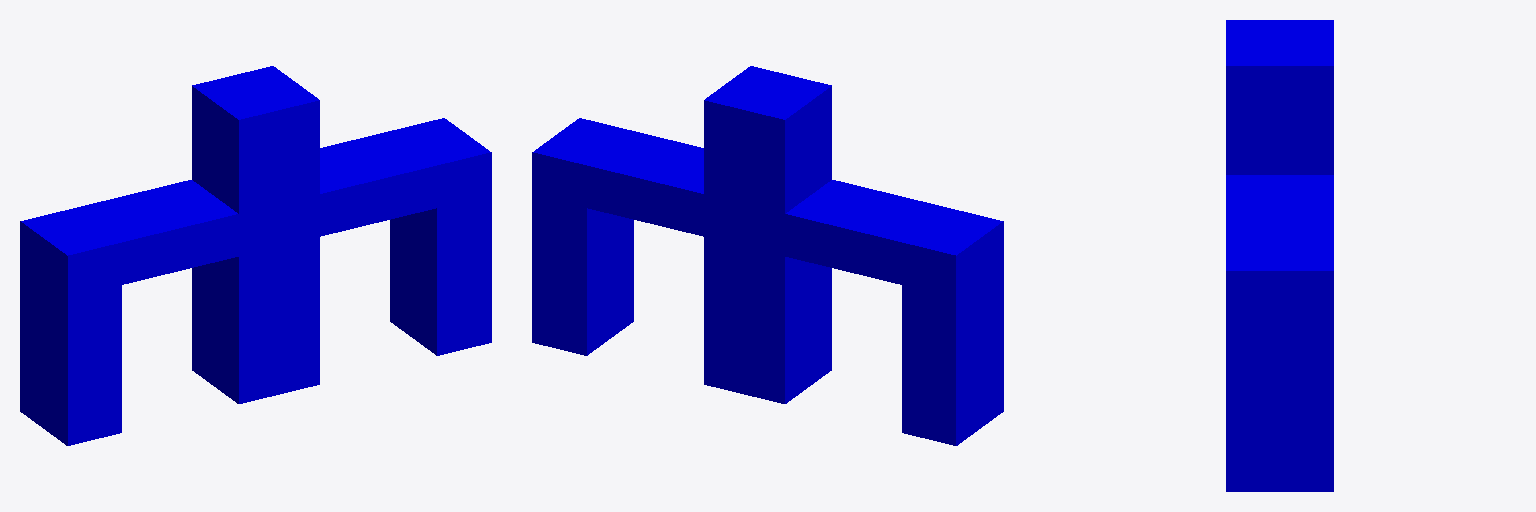
robot.urdf — board3_block3:
<?xml version="1.0"?>
<robot name="board3_block3">
    <link name="board3_block3">
        <visual>
            <origin xyz="0 0 0 " rpy=" 0 0 0"/>
            <geometry>
                <mesh filename="./MOMO_Board3_Block3.stl" scale="0.001 0.001 0.001"/>
            </geometry>
            <material name="red">
                <color rgba="0.0 0.0 1.0 1.0"/>
            </material>
        </visual>
        <collision>
            <origin xyz="0 0 0" rpy="0 0 0"/>
            <geometry>
                <mesh filename="./MOMO_Board3_Block3.stl" scale="0.001 0.001 0.001"/>
            </geometry>
        </collision>
    </link>
</robot>

--- What the picture shows (computed from the rendered views, not written in the file) ---
The picture shows the robot from 3 angles, left to right: view 1: azimuth 30°, elevation 25°; view 2: azimuth 150°, elevation 25°; view 3: azimuth 270°, elevation 25°; orthographic projection.
Model board3_block3 with 1 links and 0 joints (none), rooted at board3_block3, posed every joint at zero.
Visible links, largest first — view 1: board3_block3; view 2: board3_block3; view 3: board3_block3.
Link boxes in pixels (x1,y1,x2,y2): board3_block3: (20,66,491,445); board3_block3: (532,66,1003,445); board3_block3: (1226,20,1333,491).
Bounding box of the posed robot: 0.156 × 0.03 × 0.1 m (x, y, z).
Meshes: 1 distinct files referenced, 1 mesh visuals loaded (1 ASCII STL).